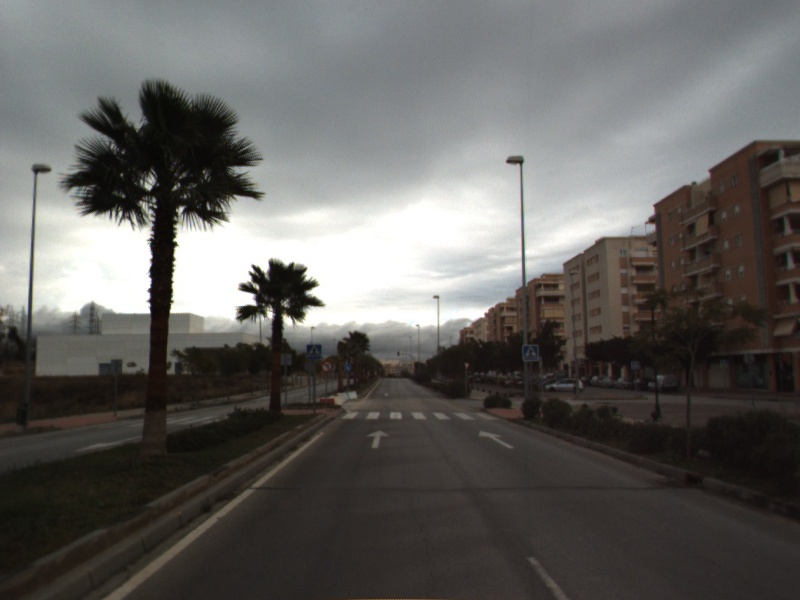STRAIGHT: (477, 429, 516, 450), (364, 428, 392, 450)
